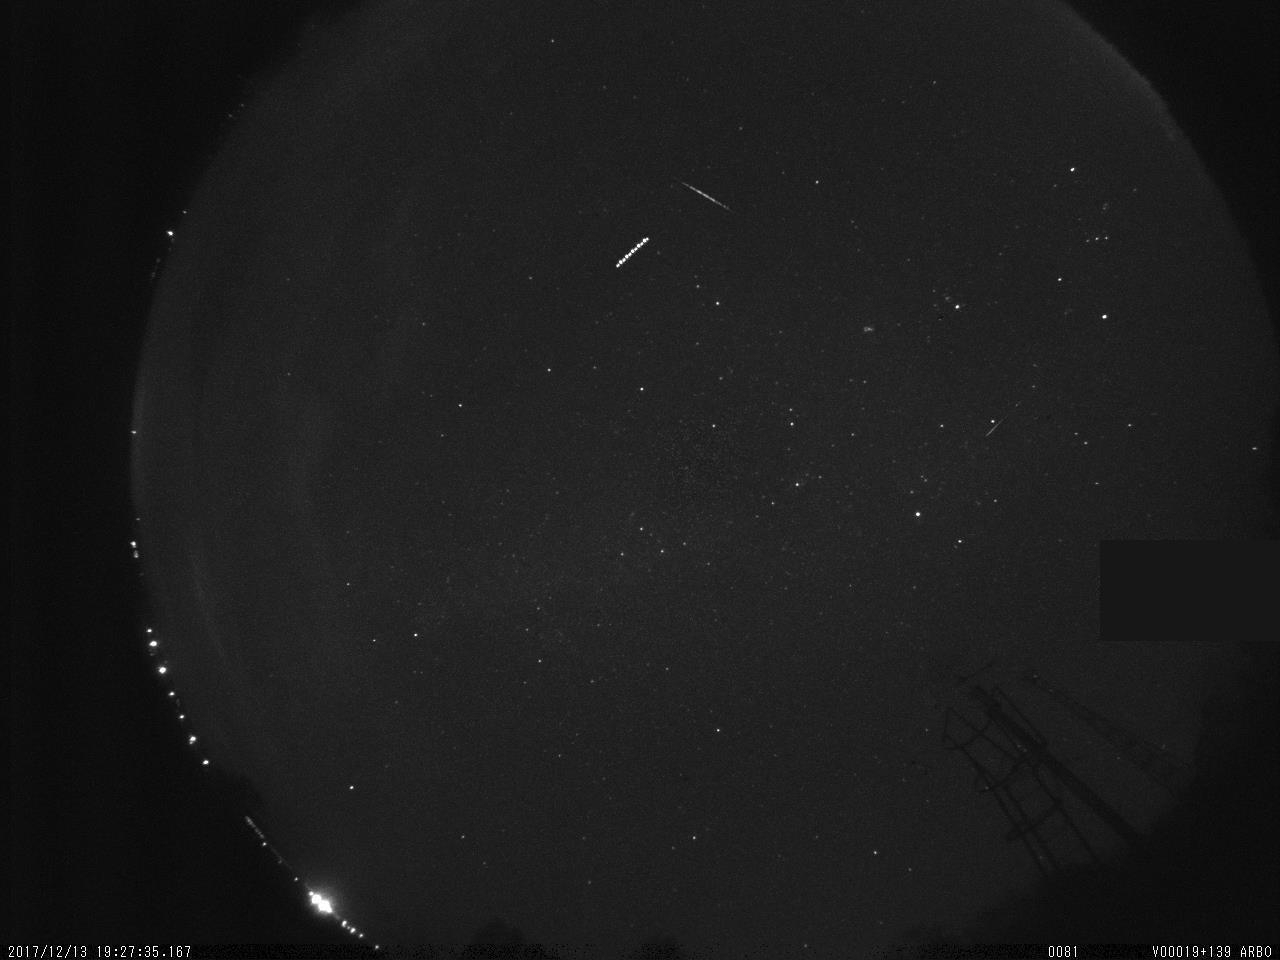meteor: (669, 170, 743, 218)
satelite: (608, 227, 656, 276)
